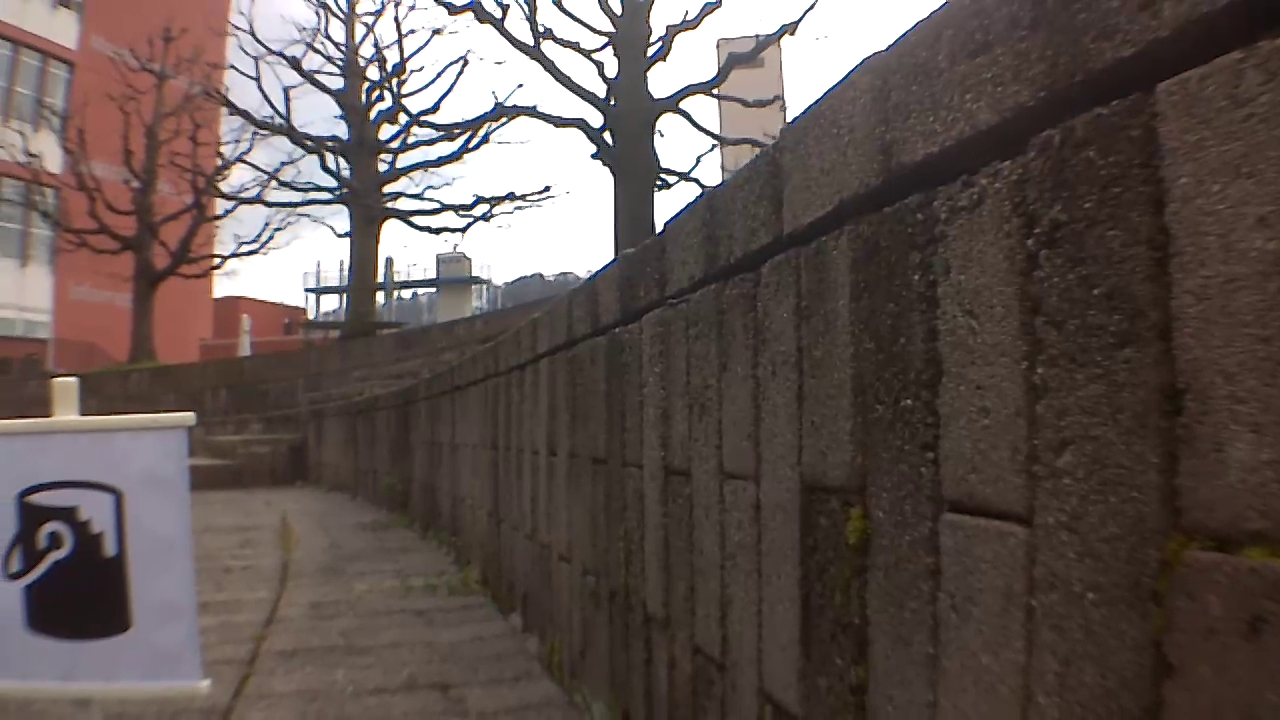bucket: (0, 476, 132, 641)
